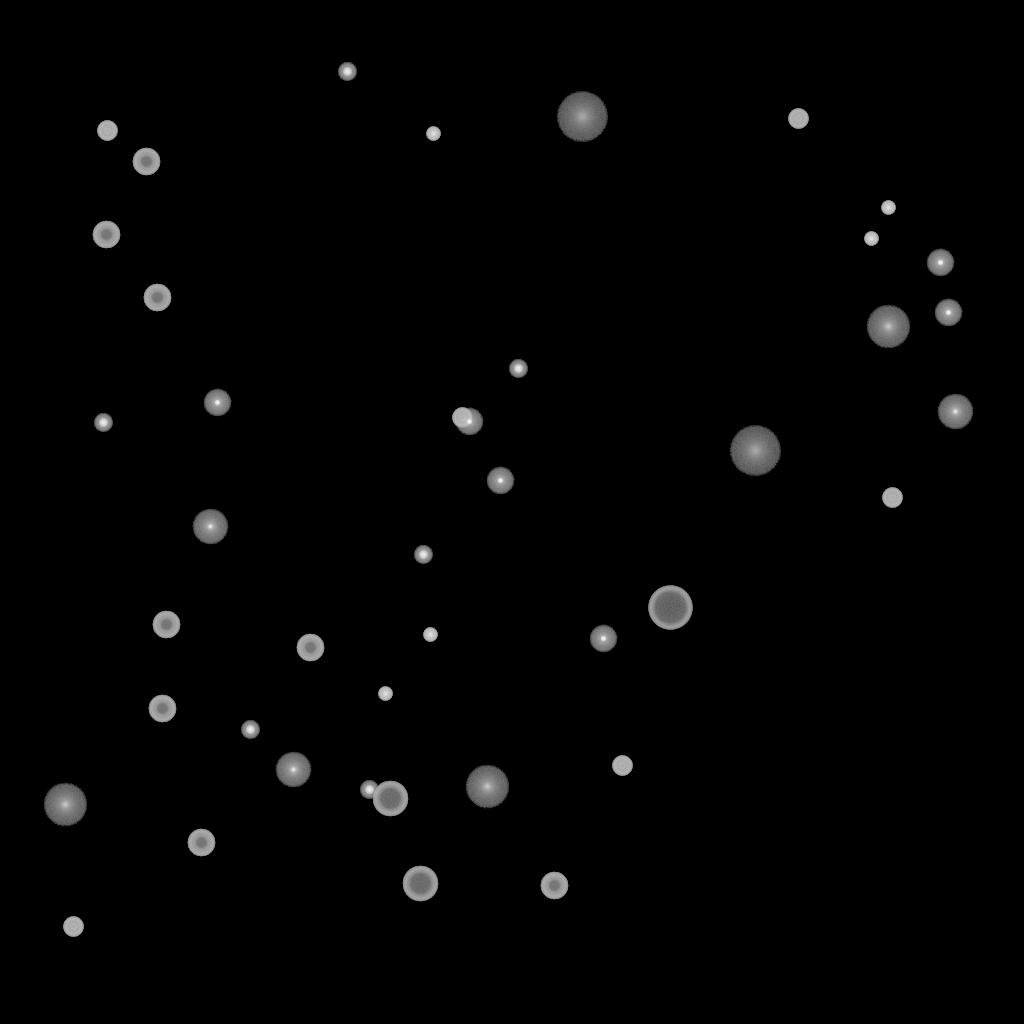depth:-10: (926, 249, 954, 277), (203, 389, 231, 417), (486, 467, 514, 495), (589, 625, 617, 653), (934, 299, 962, 327), (455, 408, 483, 436)
depth:-20: (94, 414, 112, 432), (509, 360, 527, 378), (338, 63, 356, 81), (360, 781, 378, 799), (414, 546, 432, 564), (241, 721, 259, 739)
depth:-30: (864, 232, 878, 246), (881, 201, 895, 215), (426, 127, 440, 141), (423, 628, 437, 642), (378, 687, 392, 701)
depth:-40: (882, 488, 902, 508), (788, 109, 808, 129), (452, 408, 472, 428), (97, 121, 117, 141), (63, 917, 83, 937), (612, 756, 632, 776)
depth:-50: (148, 695, 176, 723), (187, 829, 215, 857), (152, 611, 180, 639), (92, 221, 120, 249), (540, 872, 568, 900), (143, 284, 171, 312), (296, 634, 324, 662), (132, 148, 160, 176)
depth:-60: (372, 781, 408, 817), (402, 866, 438, 902)
depth:-70: (648, 586, 692, 630)
depth:0: (937, 394, 973, 430), (275, 752, 311, 788), (192, 509, 228, 545)
depth:10: (465, 765, 509, 809), (866, 305, 910, 349), (43, 783, 87, 827)
depth:20: (729, 426, 781, 476), (556, 92, 608, 142)
